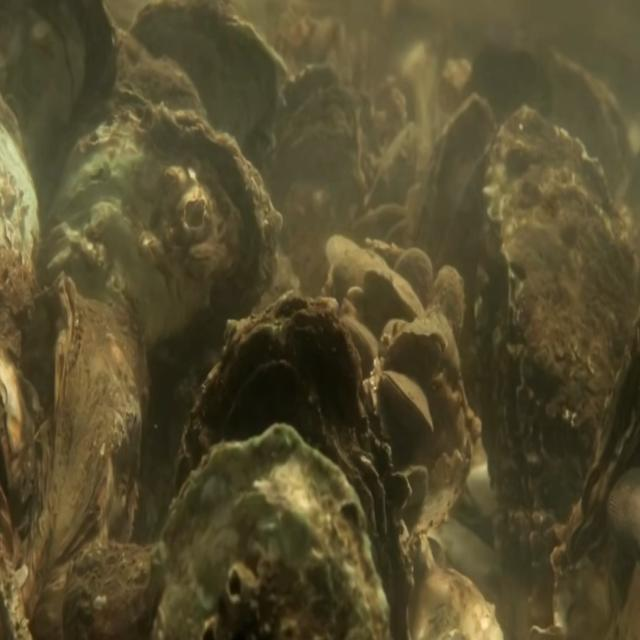Oyster-Closed: (49, 98, 282, 512), (181, 291, 412, 640), (474, 101, 634, 544), (149, 419, 388, 640), (379, 369, 433, 433), (386, 328, 448, 376)
Oyster-Indeterminate: (28, 270, 147, 640), (417, 90, 498, 320), (364, 264, 424, 318), (393, 247, 433, 318), (432, 264, 464, 340)
Oyster-Open: (262, 62, 359, 274)
